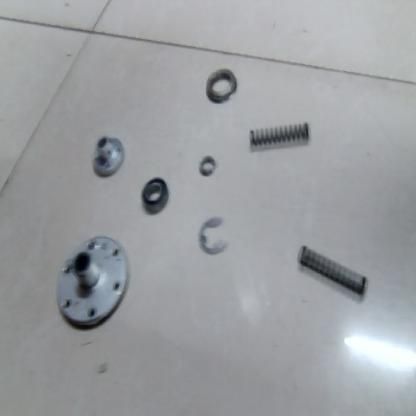FOD: (52, 235, 130, 331), (297, 245, 370, 301), (244, 119, 312, 157), (88, 134, 126, 180), (202, 66, 241, 106), (197, 214, 231, 258), (138, 176, 171, 217), (196, 151, 217, 181)
